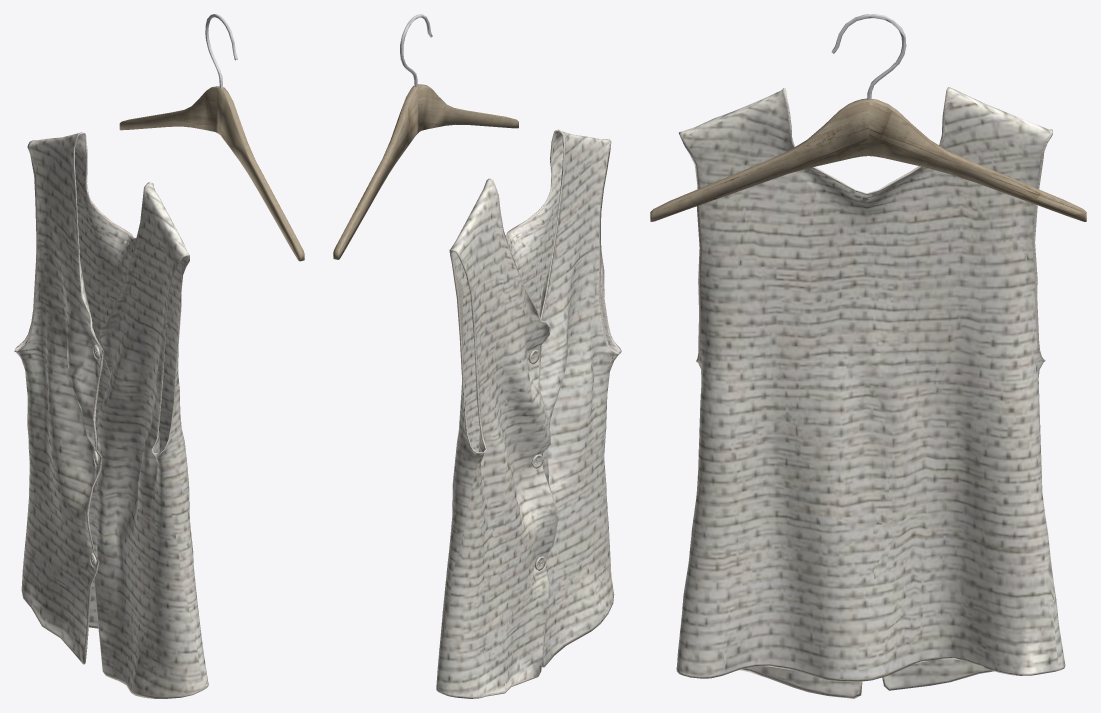
The model's file is rod-vest01.glb.
3 views of the same model, side by side, from view 1: azimuth 30°, elevation 25°; view 2: azimuth 150°, elevation 25°; view 3: azimuth 270°, elevation 25° (orthographic). The views are drawn at different scales.
Parts seen in each view (by area): view 1: vest01.001, Hangers_for_clothes098.001; view 2: vest01.001, Hangers_for_clothes098.001; view 3: vest01.001, Hangers_for_clothes098.001.
Boxes of the visible parts, <box> form: vest01.001: <box>14,132,208,698</box>; Hangers_for_clothes098.001: <box>119,14,304,261</box>; vest01.001: <box>436,129,621,698</box>; Hangers_for_clothes098.001: <box>333,14,518,259</box>; vest01.001: <box>676,87,1065,698</box>; Hangers_for_clothes098.001: <box>650,14,1086,221</box>.
Bounding box in the file's own units: 0.1972 × 0.8363 × 0.4372.
Materials: 4 (3 with a texture image).
